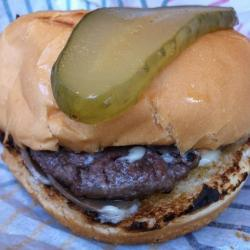burger: (2, 11, 248, 246)
